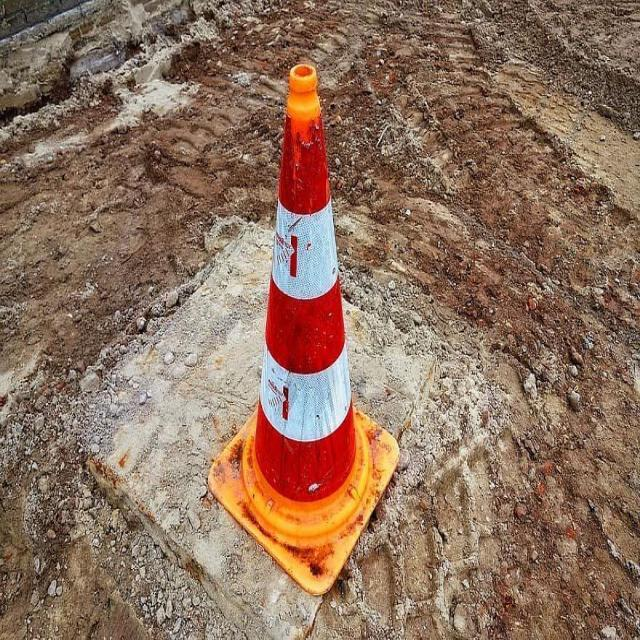Cone: (209, 63, 402, 594)
